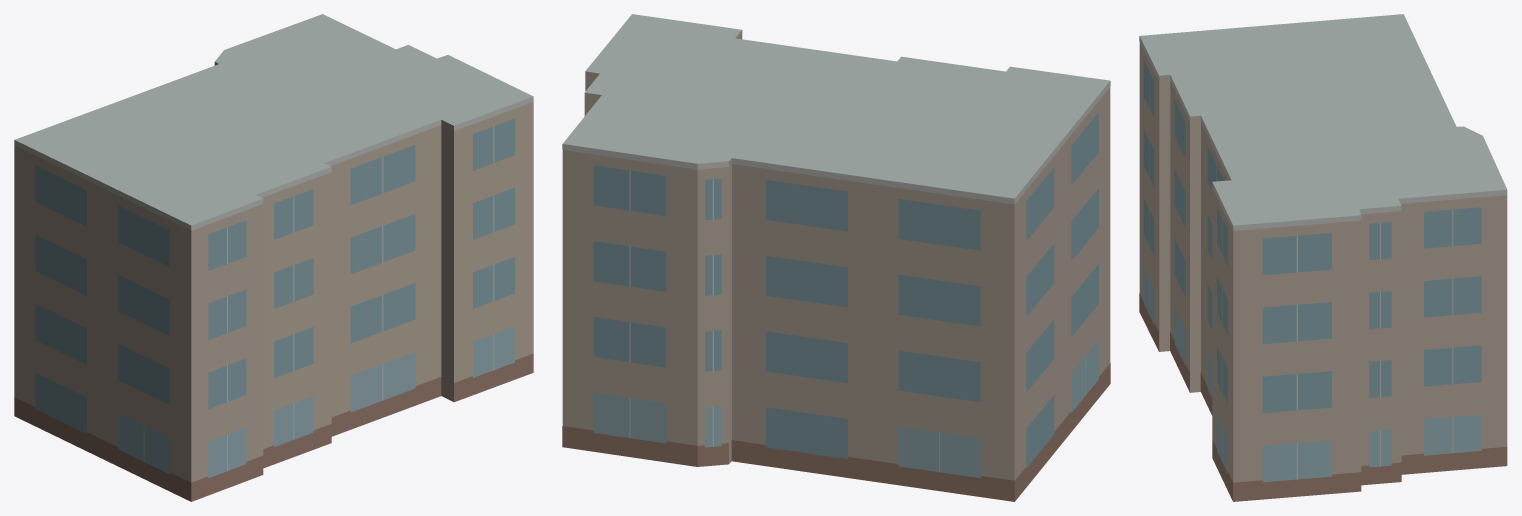
File: survey-upis-32682192.glb
3 renders of one model, left to right at view 1: azimuth 30°, elevation 25°; view 2: azimuth 150°, elevation 25°; view 3: azimuth 270°, elevation 25°, orthographic. The views are drawn at different scales.
Parts seen in each view (by area): view 1: survey-upis-32682192.tmp; view 2: survey-upis-32682192.tmp; view 3: survey-upis-32682192.tmp.
Boxes of the visible parts, x1=… form: survey-upis-32682192.tmp: x1=14, y1=14, x2=533, y2=501; survey-upis-32682192.tmp: x1=562, y1=14, x2=1110, y2=501; survey-upis-32682192.tmp: x1=1139, y1=14, x2=1507, y2=501.
Bounding box in the file's own units: 20.72 × 12.6 × 15.22.
